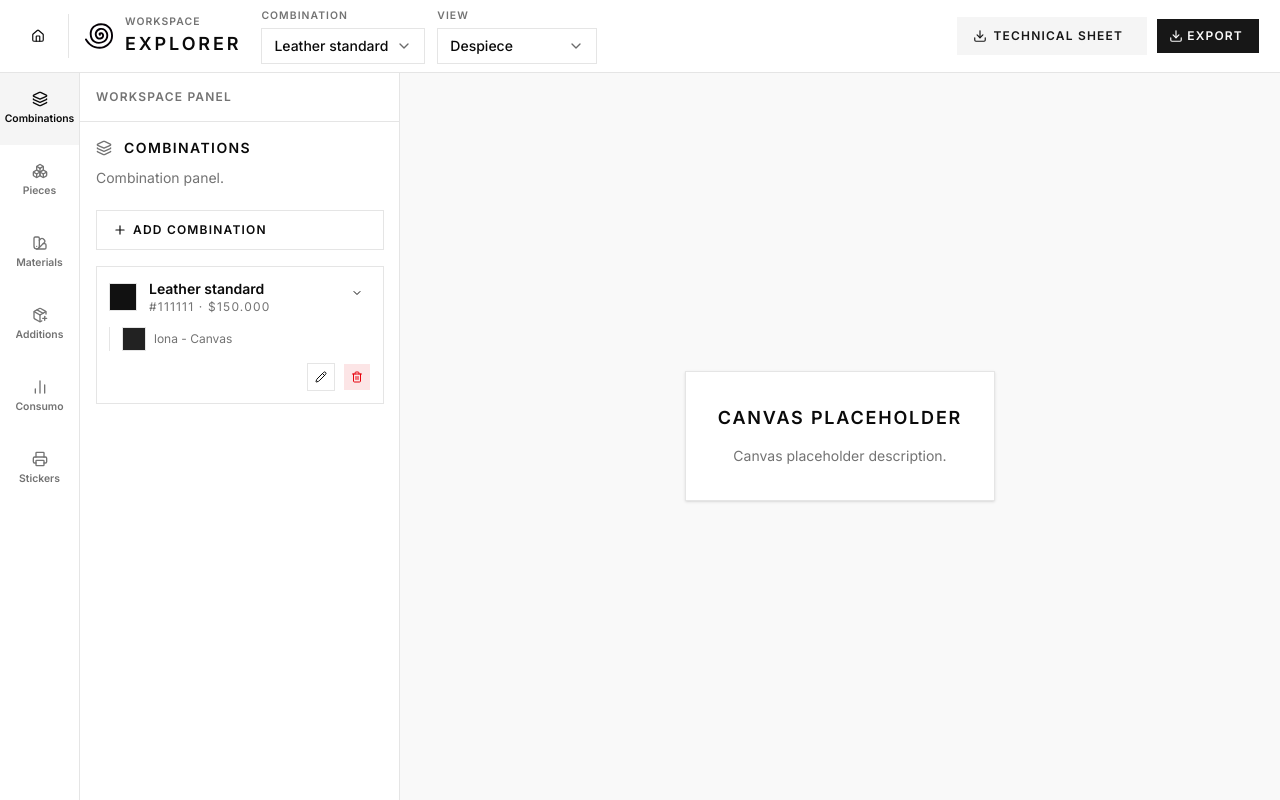
Test: ProductWorkspace › opens combination create and edit dialogs from the panel
The width and height of the screenshot is (1280, 800).
Click the button "Add combination": point(240, 230) [96,210,384,250]
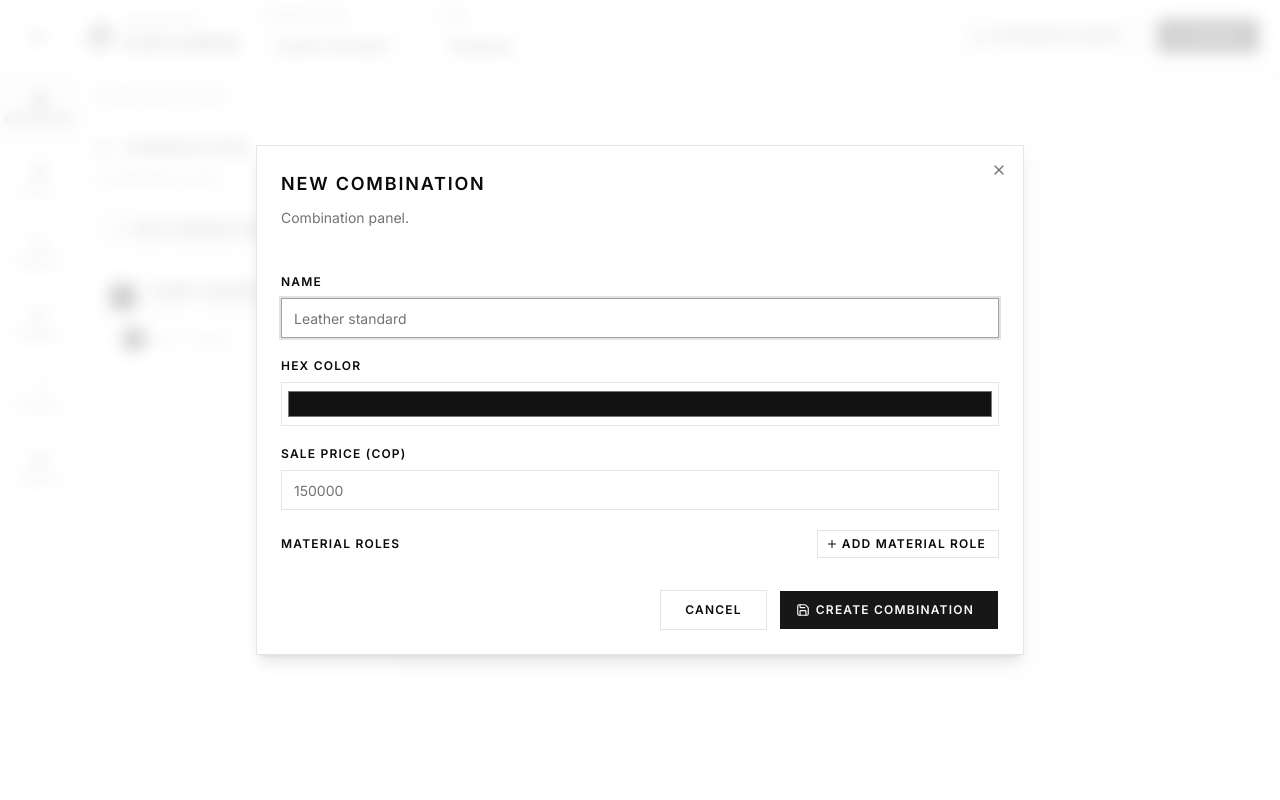
Expected: the dialog is shown, [256,145,1024,655]
Expected: the heading "New combination" is shown, [281,173,486,194]
Expected: the text "Material roles" is shown, [281,536,400,552]
Click the button "Add material role": point(908, 544) [817,530,999,558]
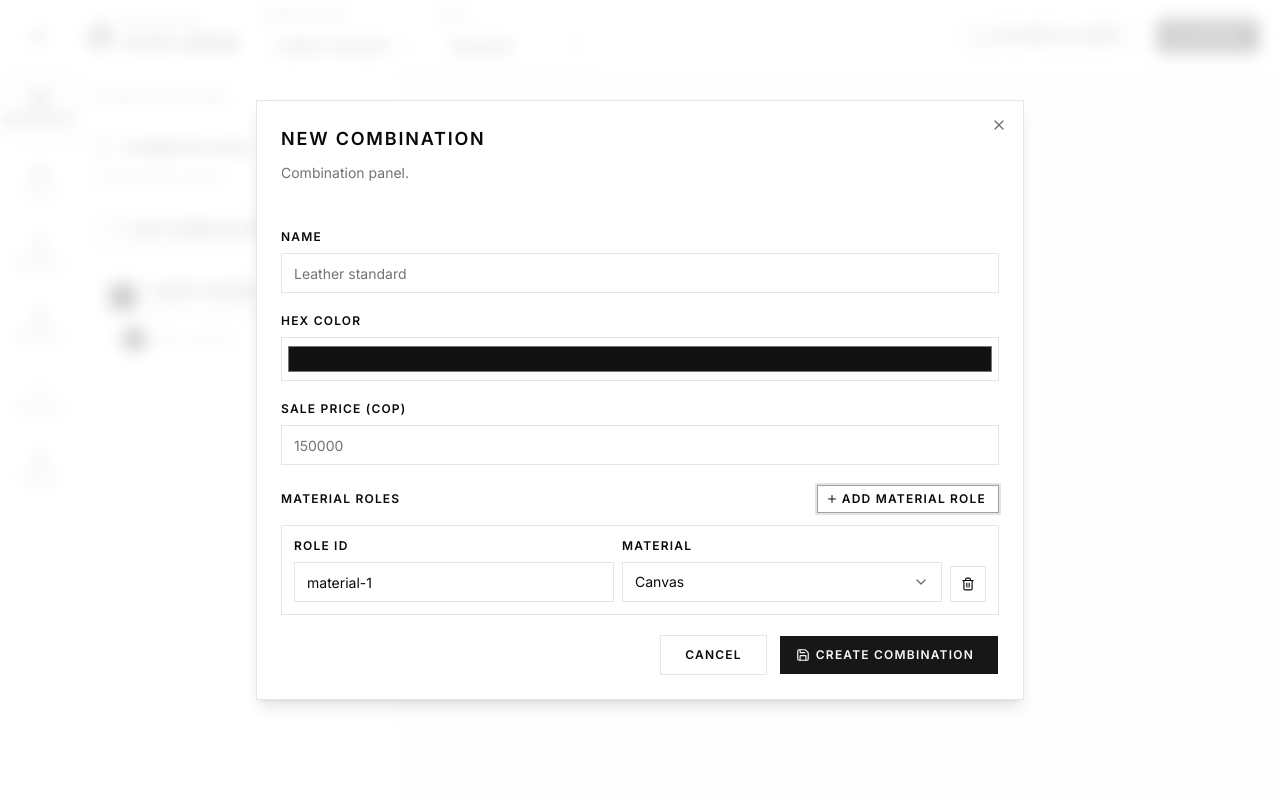
Expected: the field named "Role id 1" holds "material-1", [294,562,614,602]
Expected: the dropdown named "Material" reads "Canvas", [622,562,942,602]
Click the button named "Remove material role 1": point(968, 584) [950,566,986,602]
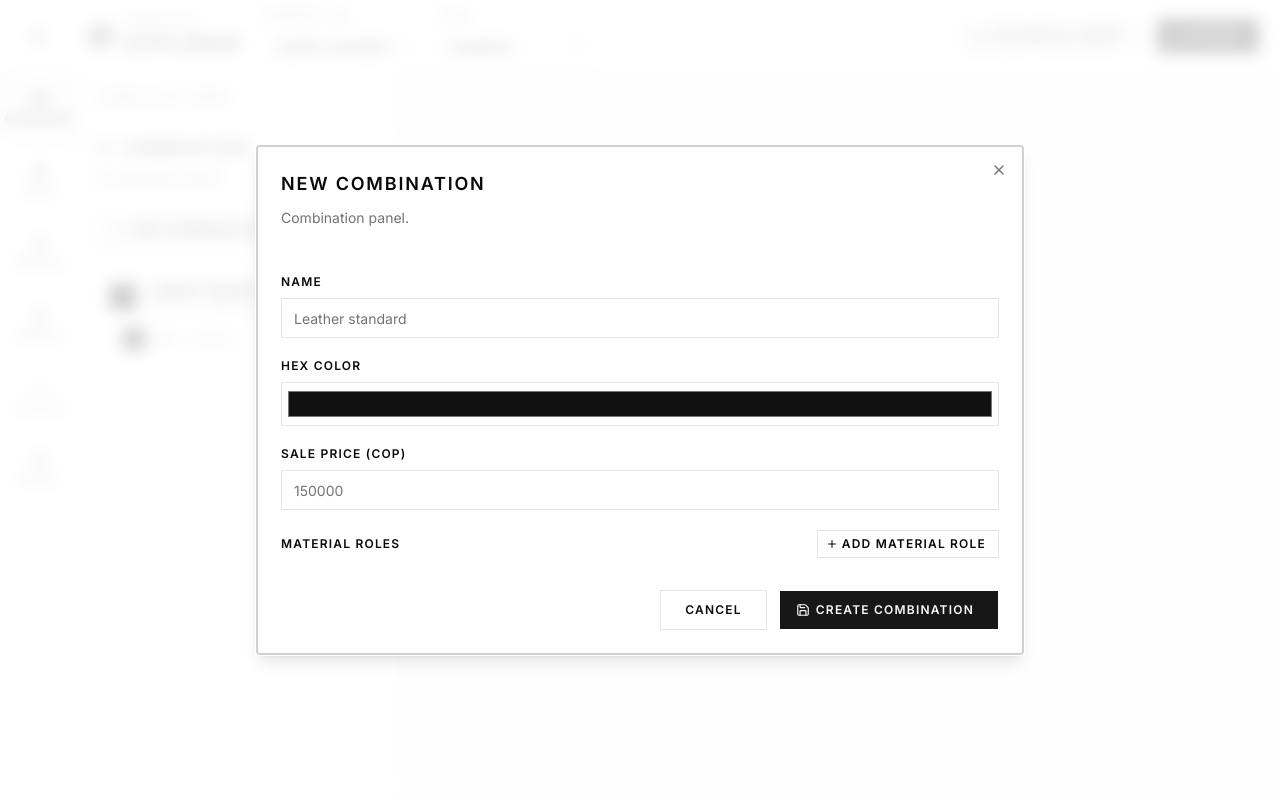
Click the button named "Close dialog": point(999, 170) [991,162,1007,178]
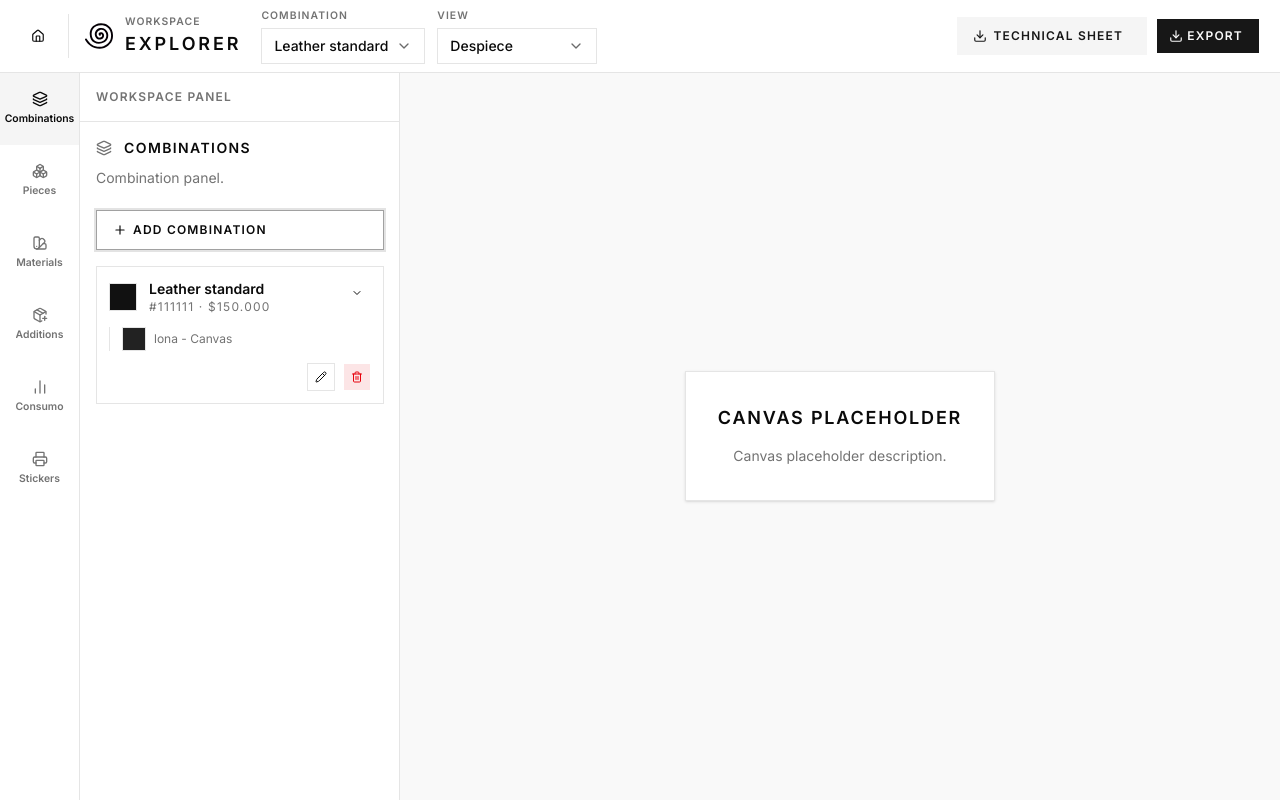
Click the button named "Edit: Leather standard": point(321, 377) [307,363,335,391]
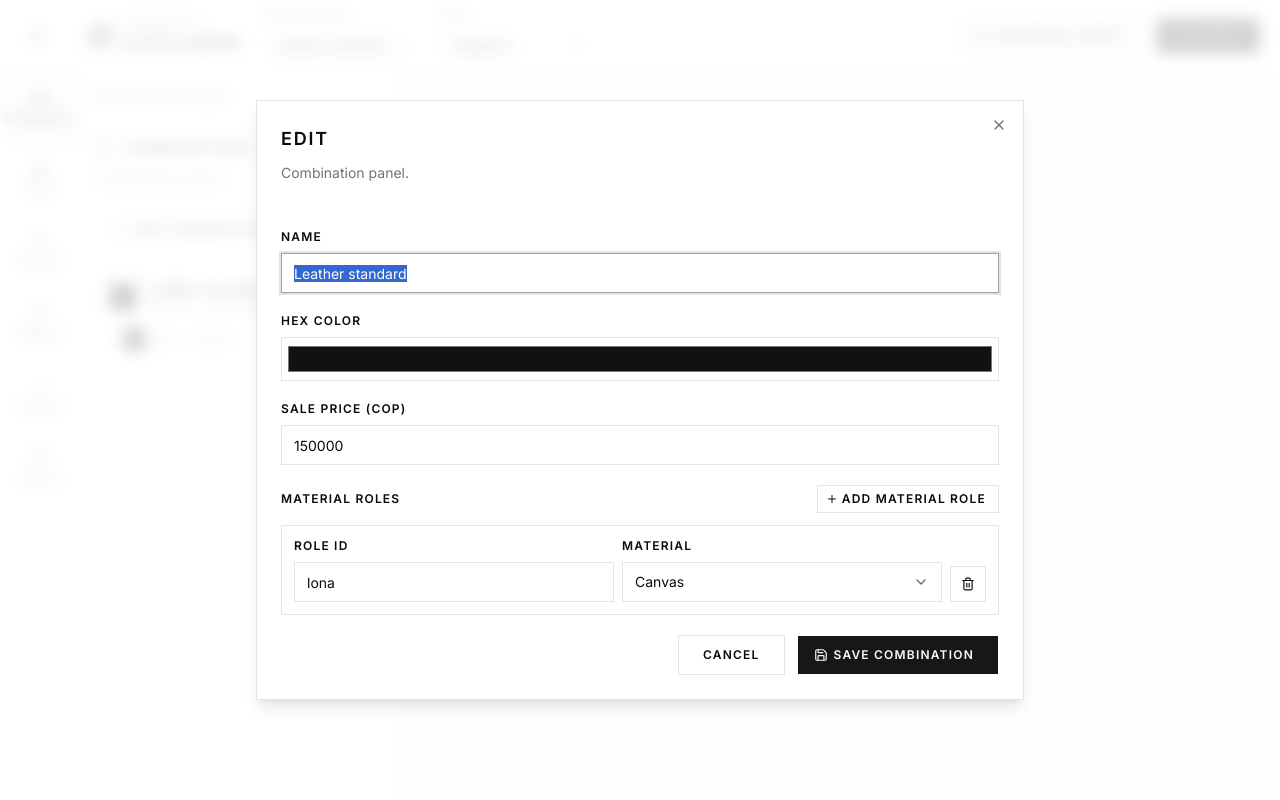
Expected: the heading "Edit" is shown, [281,128,329,149]
Expected: the field labelled "Name" holds "Leather standard", [281,253,999,293]
Expected: the field named "Role id 1" holds "lona", [294,562,614,602]
